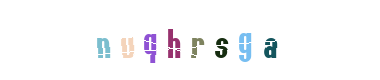A: (225, 0, 305, 80)
G: (181, 0, 261, 80)
H: (146, 0, 226, 80)
N: (106, 0, 186, 80)
Q: (133, 0, 213, 80)
R: (150, 0, 230, 80)
S: (165, 0, 245, 80)
V: (112, 0, 192, 80)
